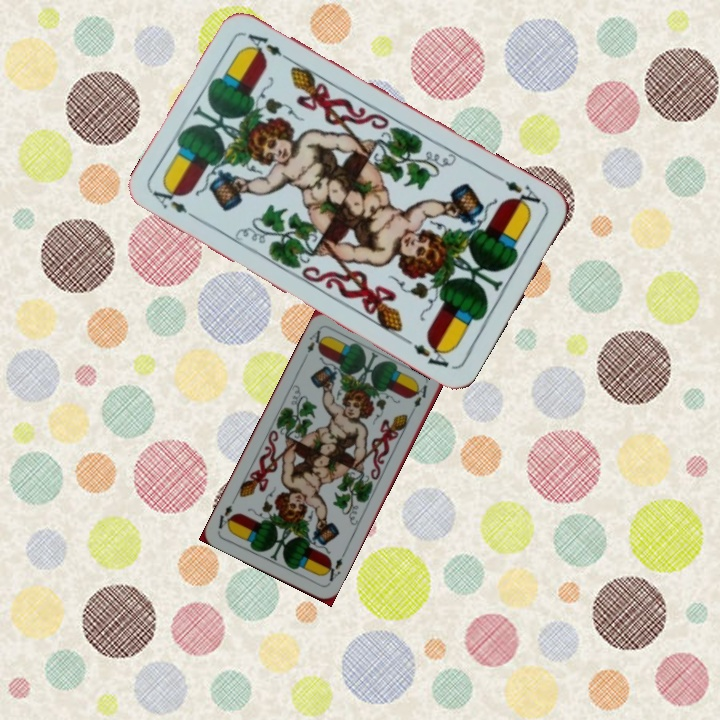EA: (148, 181, 202, 224), (500, 176, 548, 213), (299, 326, 327, 363), (320, 554, 345, 587)
